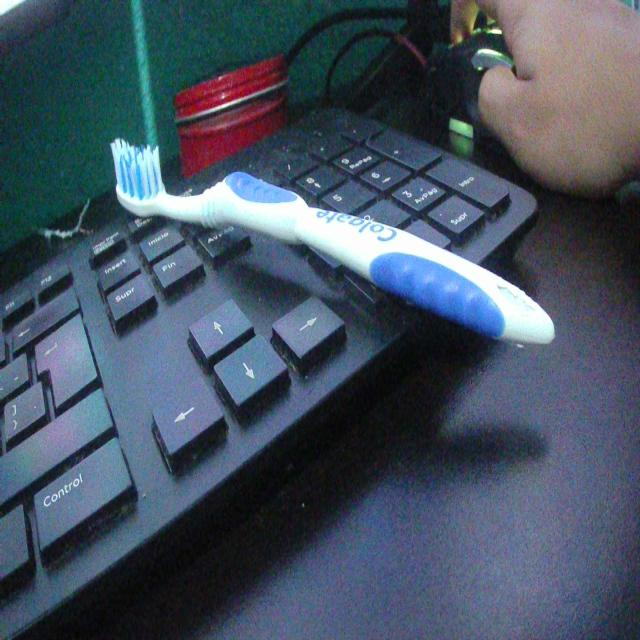Organico: (102, 118, 566, 365)
